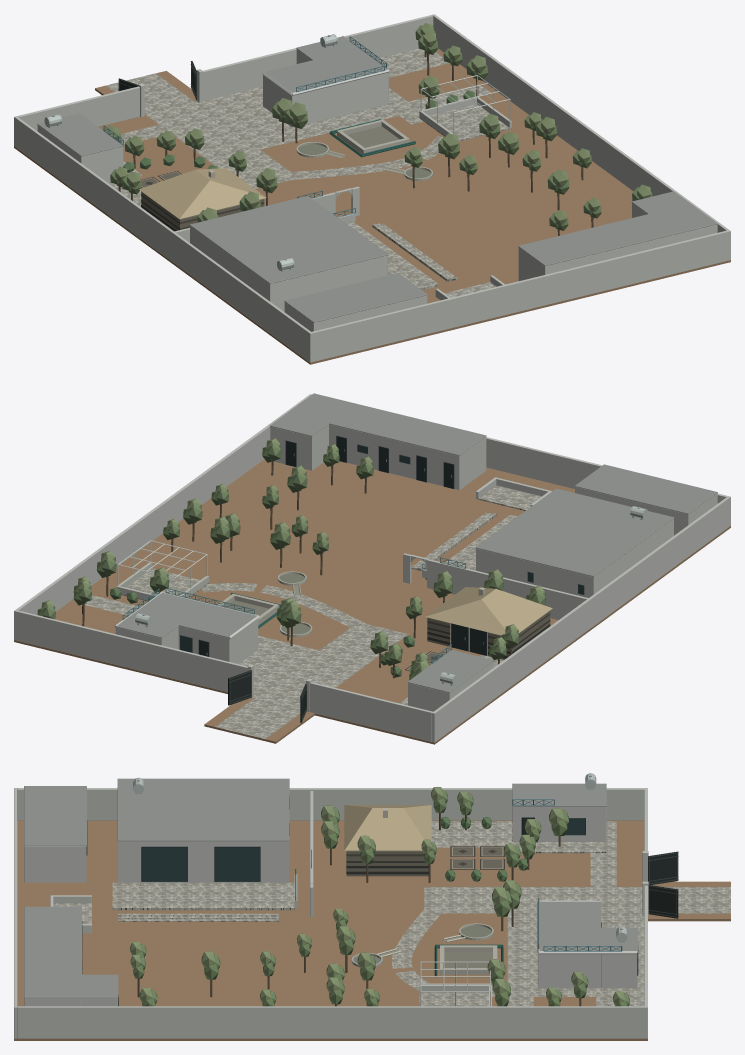
Rendered from RestHouse_Motri2.glb.
3 views of the same model, one above another, from view 1: azimuth 30°, elevation 25°; view 2: azimuth 150°, elevation 25°; view 3: azimuth 270°, elevation 25° (orthographic). The views are drawn at different scales.
Parts seen in each view (by area): view 1: RH_Walls, RH_Ground, RH_Roofs, RH_Paving, RH_Foliage, RH_Tent, RH_Terraces, RH_Basins, RH_Pergola, RH_TreeTrunks, RH_BlueRailings, RH_RoofTanks; view 2: RH_Walls, RH_Ground, RH_Roofs, RH_Paving, RH_Foliage, RH_Tent, RH_Terraces, RH_DoorPanels, RH_Basins, RH_Pergola, RH_TreeTrunks, RH_BlueRailings (+3 smaller); view 3: RH_Ground, RH_Walls, RH_Roofs, RH_Paving, RH_Foliage, RH_Terraces, RH_Tent, RH_Glass, RH_Basins, RH_Pergola, RH_Gate_Left, RH_Gate_Right (+4 smaller).
Boxes of the visible parts, x1,y1,x2,y2 form: RH_Walls: (14, 14, 730, 362); RH_Ground: (14, 48, 730, 364); RH_Roofs: (37, 36, 717, 322); RH_Paving: (106, 48, 490, 206); RH_Foliage: (103, 23, 652, 230); RH_Tent: (139, 168, 266, 231); RH_Terraces: (123, 104, 511, 297); RH_Basins: (296, 119, 433, 180); RH_Pergola: (419, 75, 511, 136); RH_TreeTrunks: (118, 50, 593, 235); RH_BlueRailings: (103, 36, 386, 217); RH_RoofTanks: (44, 34, 337, 271); RH_Walls: (14, 394, 730, 742); RH_Ground: (14, 459, 730, 744); RH_Roofs: (115, 393, 717, 692); RH_Paving: (84, 583, 503, 738); RH_Foliage: (37, 438, 546, 680); RH_Tent: (405, 587, 552, 671); RH_Terraces: (121, 485, 541, 705); RH_DoorPanels: (199, 436, 486, 656); RH_Basins: (218, 571, 312, 637); RH_Pergola: (116, 540, 209, 600); RH_TreeTrunks: (82, 461, 511, 678); RH_BlueRailings: (122, 557, 465, 663); RH_Ground: (14, 820, 730, 1040); RH_Walls: (14, 788, 648, 1038); RH_Roofs: (24, 778, 637, 997); RH_Paving: (392, 821, 730, 1006); RH_Foliage: (130, 787, 629, 1006); RH_Terraces: (53, 842, 606, 1006); RH_Tent: (344, 805, 504, 876); RH_Glass: (142, 818, 585, 881); RH_Basins: (351, 923, 503, 975); RH_Pergola: (419, 961, 491, 1006); RH_Gate_Left: (648, 885, 678, 918); RH_Gate_Right: (648, 851, 678, 884).
Bounding box in the file's own units: 40 × 4.98 × 55.2.
Materials: 5 (1 with a texture image).
